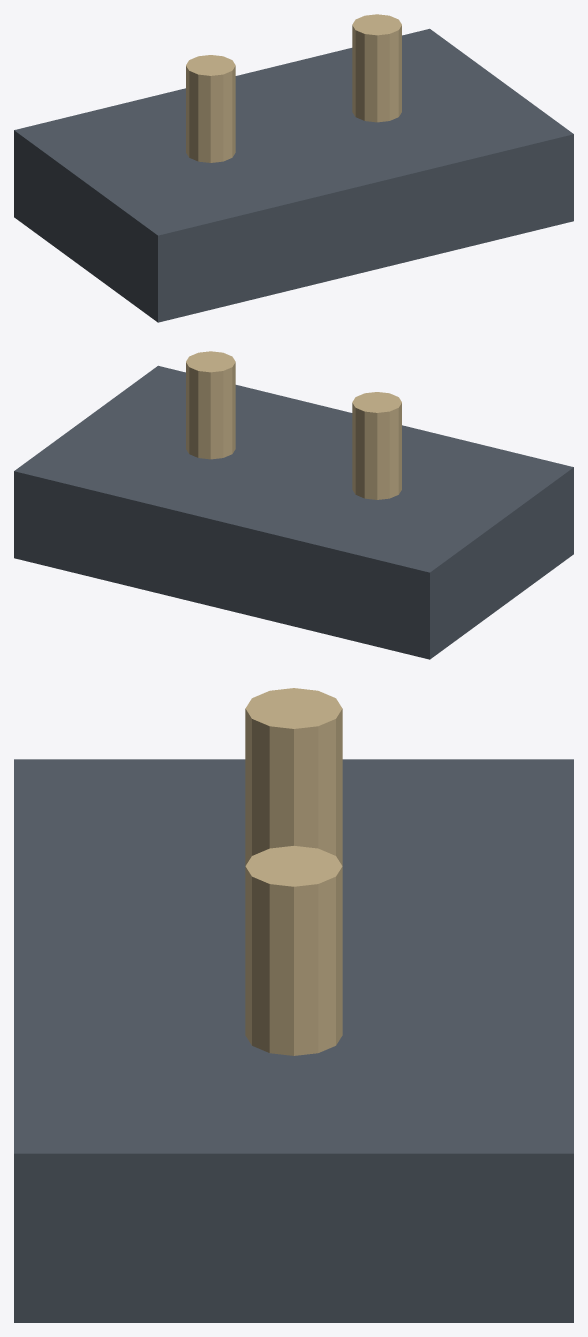
Rendered from 66_L97_W067_Header_Base.glb.
3 renders of one model, top to bottom at view 1: azimuth 30°, elevation 25°; view 2: azimuth 150°, elevation 25°; view 3: azimuth 270°, elevation 25°, orthographic. The views are drawn at different scales.
Parts seen in each view (by area): view 1: Plastic_header_0, Pin_2, Pin_1; view 2: Plastic_header_0, Pin_2, Pin_1; view 3: Plastic_header_0, Pin_2, Pin_1.
Boxes of the visible parts, x1=… form: Plastic_header_0: x1=14, y1=28, x2=573, y2=322; Pin_2: x1=352, y1=14, x2=401, y2=122; Pin_1: x1=186, y1=55, x2=235, y2=162; Plastic_header_0: x1=14, y1=365, x2=573, y2=659; Pin_2: x1=186, y1=351, x2=235, y2=459; Pin_1: x1=352, y1=392, x2=401, y2=499; Plastic_header_0: x1=14, y1=759, x2=573, y2=1322; Pin_2: x1=245, y1=846, x2=342, y2=1055; Pin_1: x1=245, y1=688, x2=342, y2=865.
Size of the model in its own units: 0.01 by 0.004 by 0.006.
